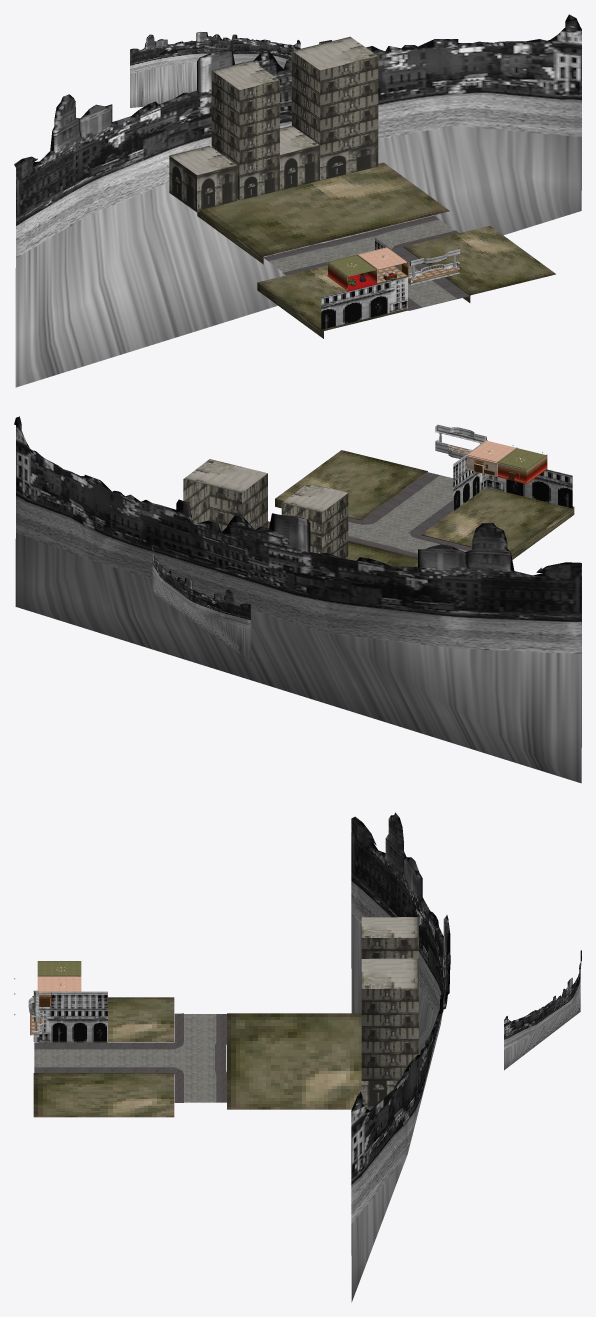
Rendered from main.FBX.
The picture shows the model from 3 angles, top to bottom: view 1: azimuth 30°, elevation 25°; view 2: azimuth 150°, elevation 25°; view 3: azimuth 270°, elevation 25°; orthographic projection. The views are drawn at different scales.
Parts seen in each view (by area): view 1: Box070, Object001; view 2: Box070, Object001; view 3: Box070.
Part boxes in pixels (x1,y1,x2,y2): Box070: [14, 14, 581, 387]; Object001: [408, 247, 460, 285]; Box070: [14, 416, 581, 783]; Object001: [435, 424, 486, 458]; Box070: [32, 812, 581, 1302].
Bounding box in the file's own units: 10.34 × 4.53 × 8.5.
